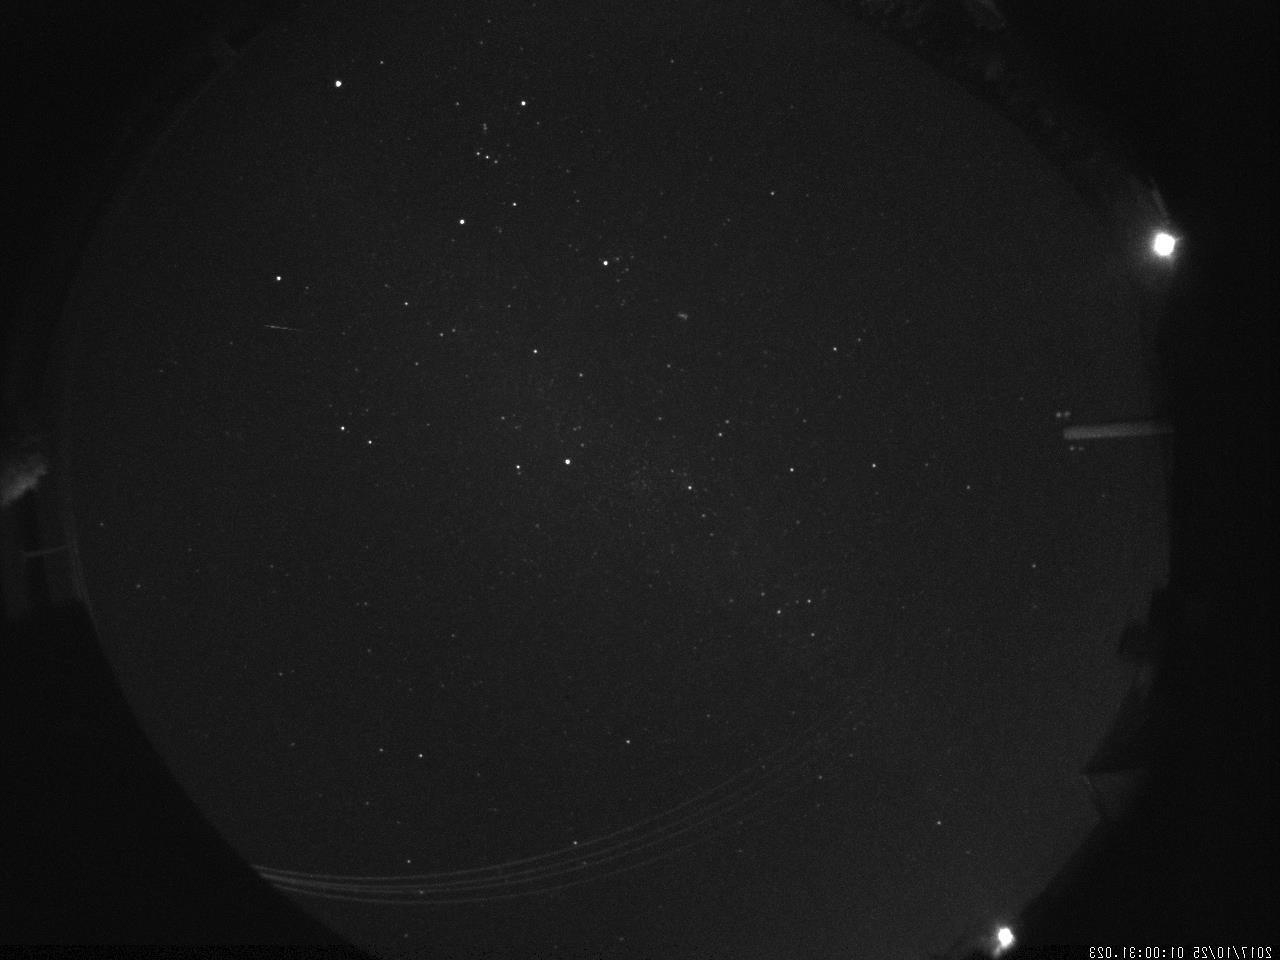meteor: (255, 314, 323, 337)
